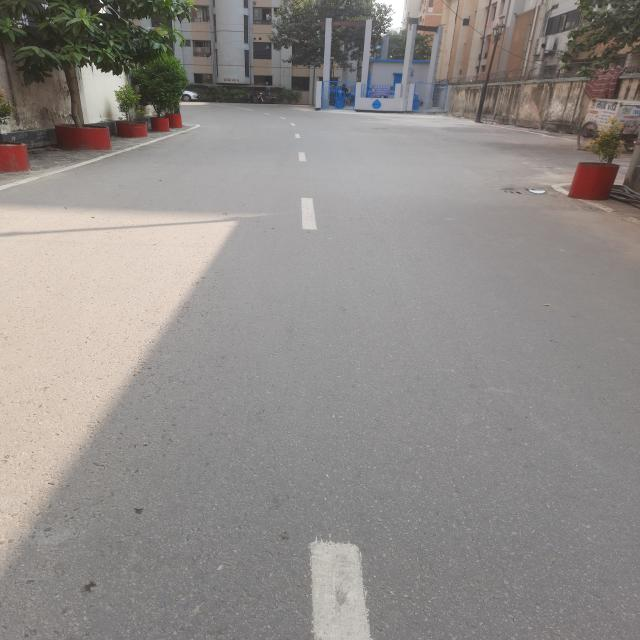Road-divider: (273, 120, 381, 640)
